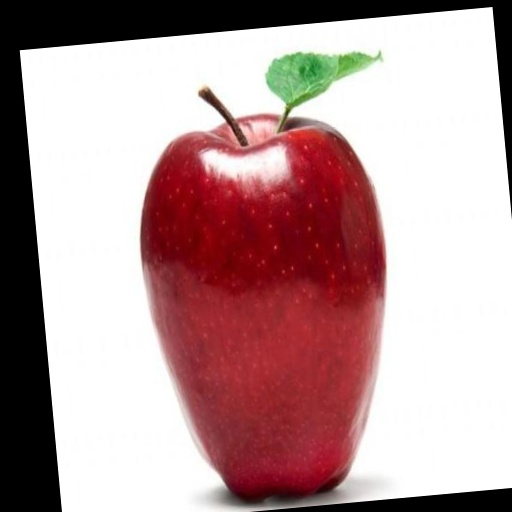fruit: (140, 115, 385, 499)
